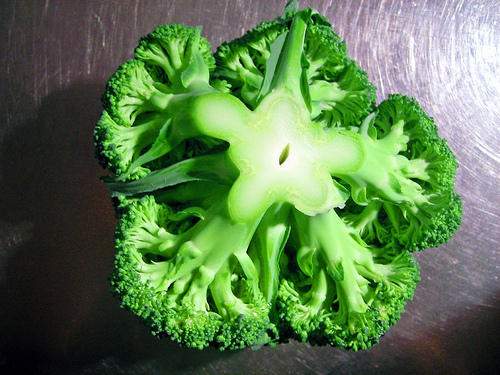broccoli: (89, 1, 464, 354)
